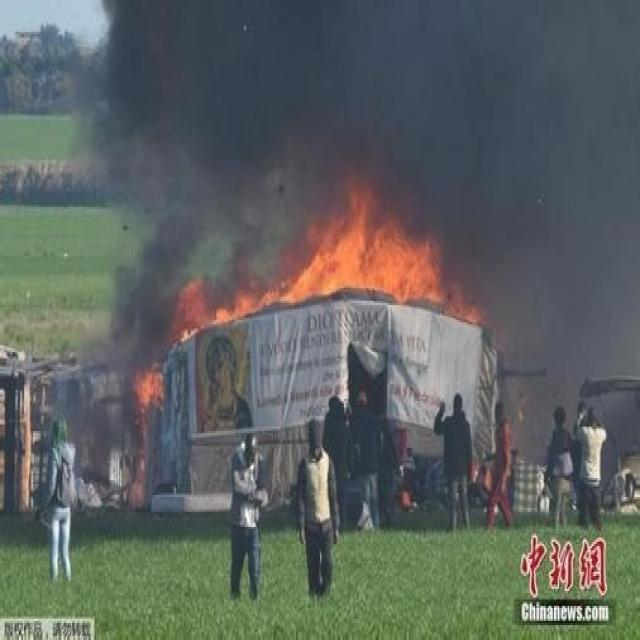Fire: (170, 190, 484, 343), (132, 367, 166, 410)
Smoke: (49, 2, 640, 482)
